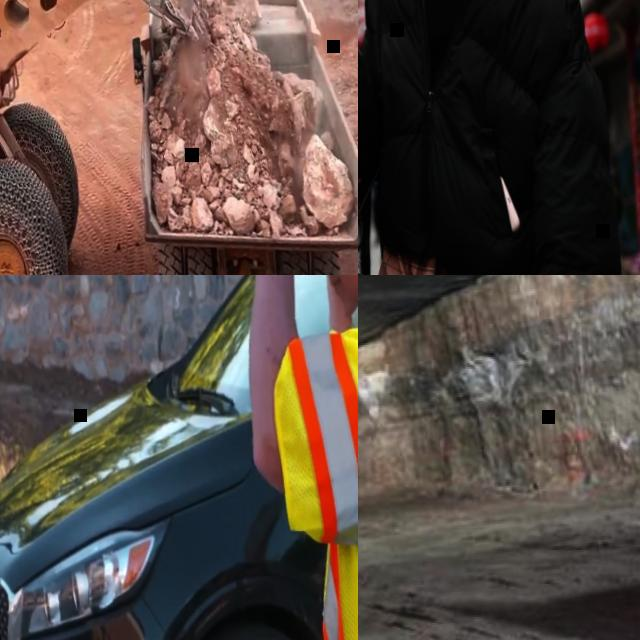NO-Safety Vest: (358, 0, 564, 275)
Person: (358, 0, 638, 275), (219, 275, 358, 640)
Safety Vest: (266, 275, 358, 640)
vehicle: (0, 275, 358, 640), (0, 0, 259, 275), (121, 0, 358, 275)
